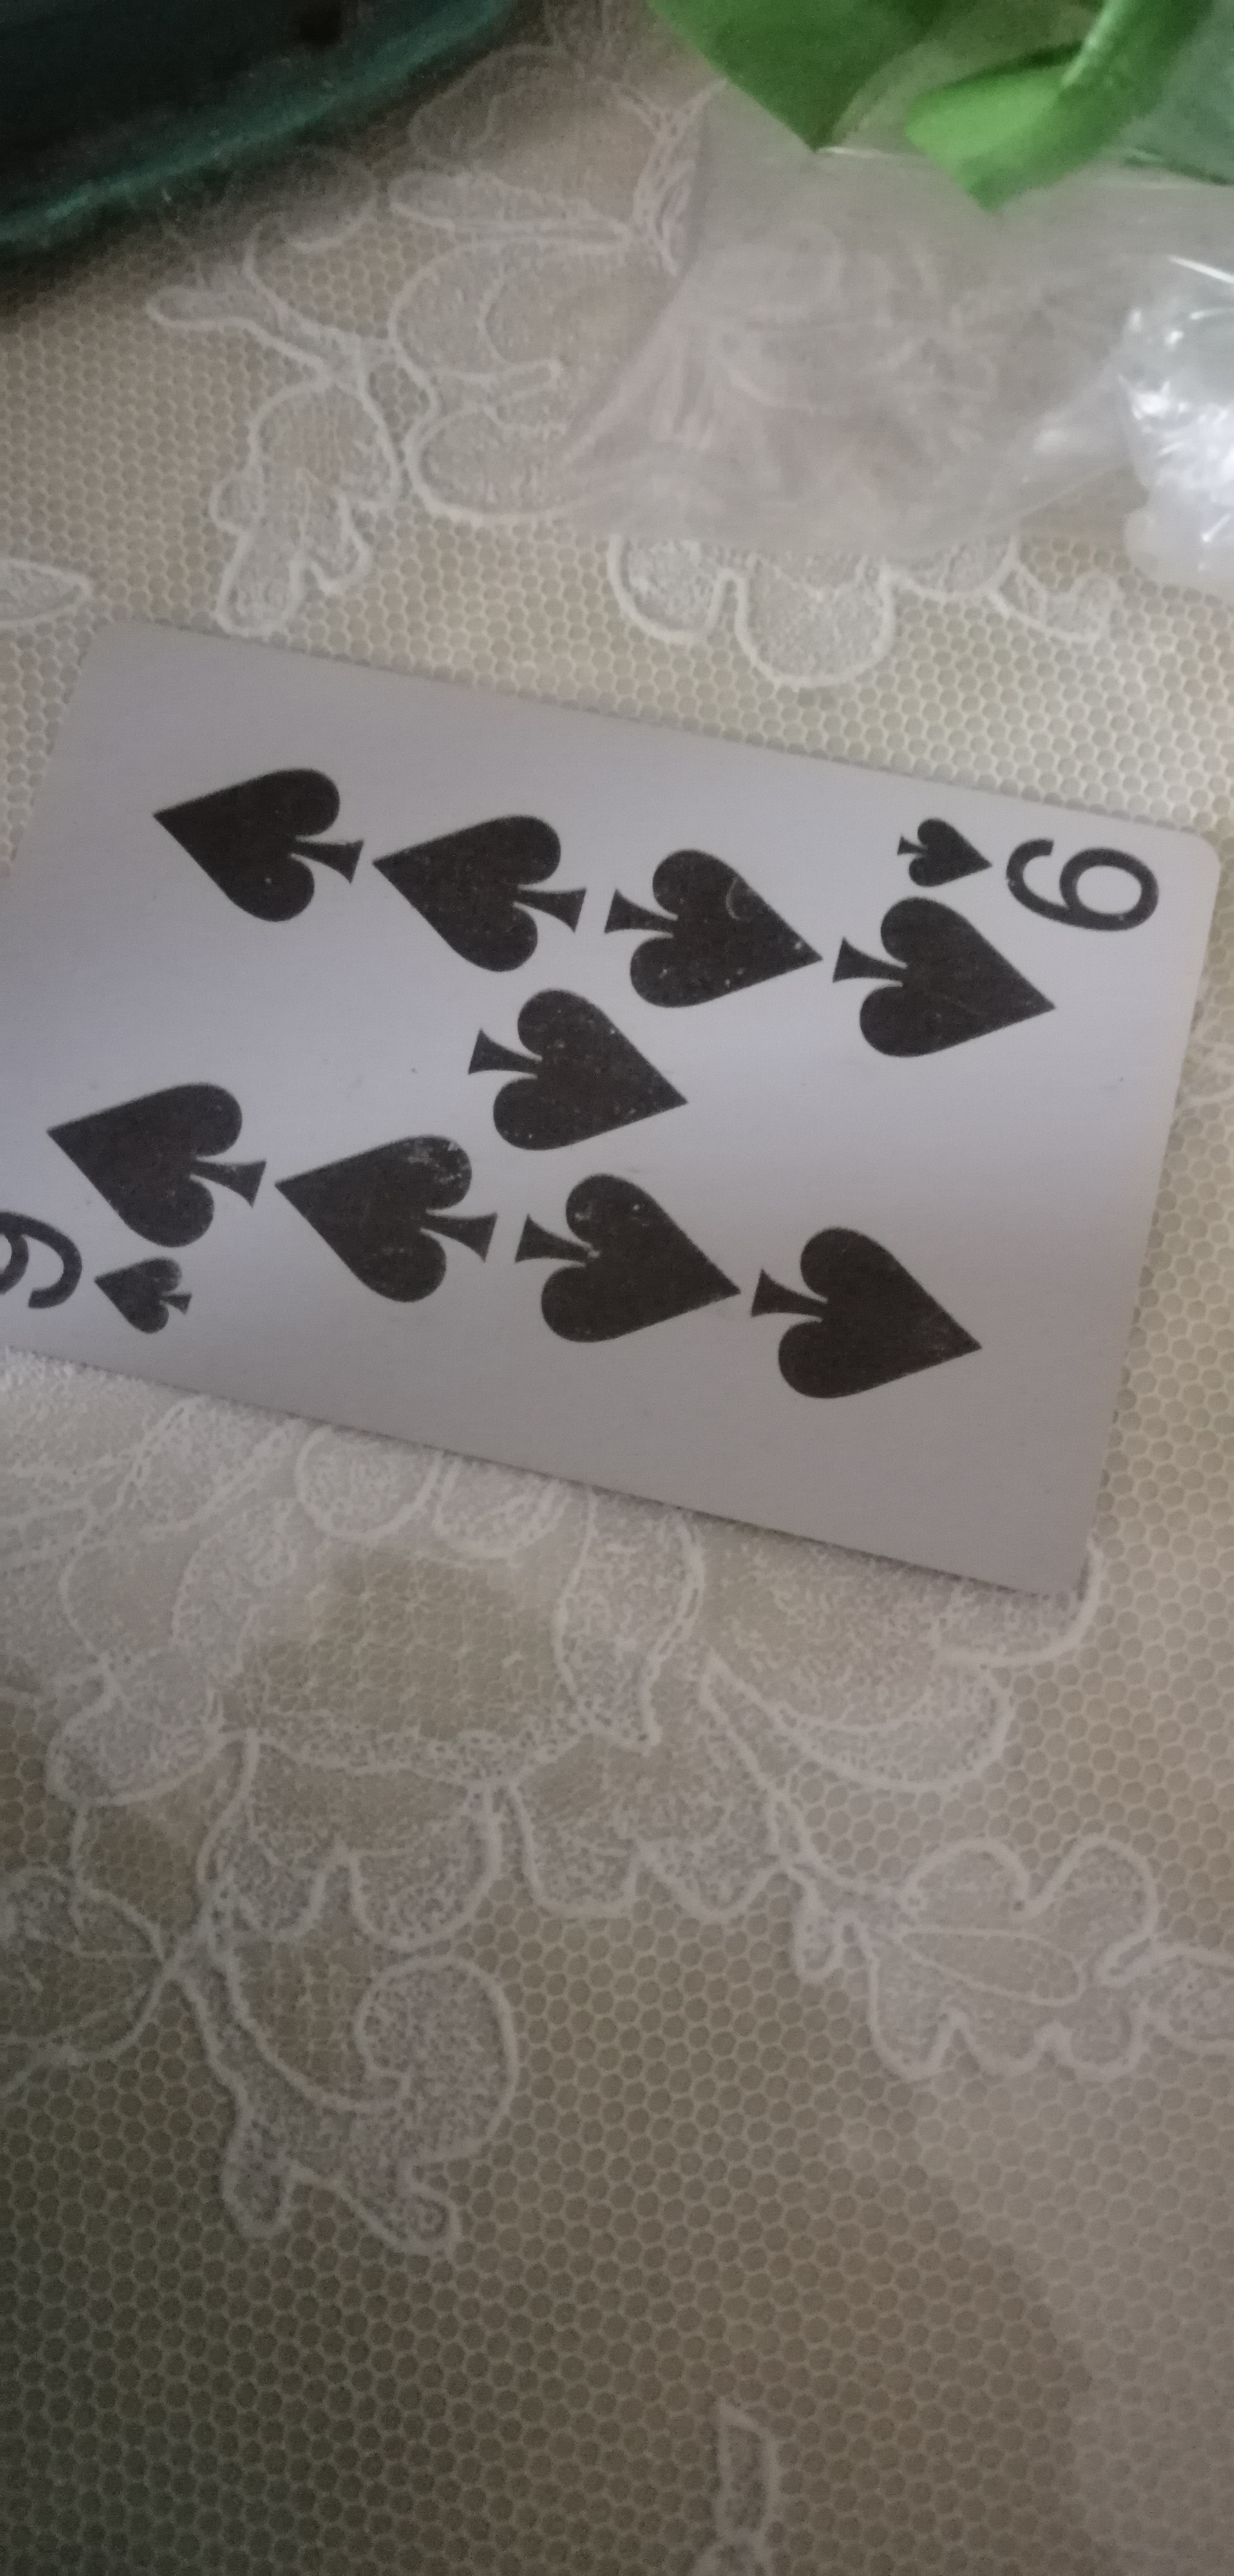nine: (0, 606, 1186, 1600)
